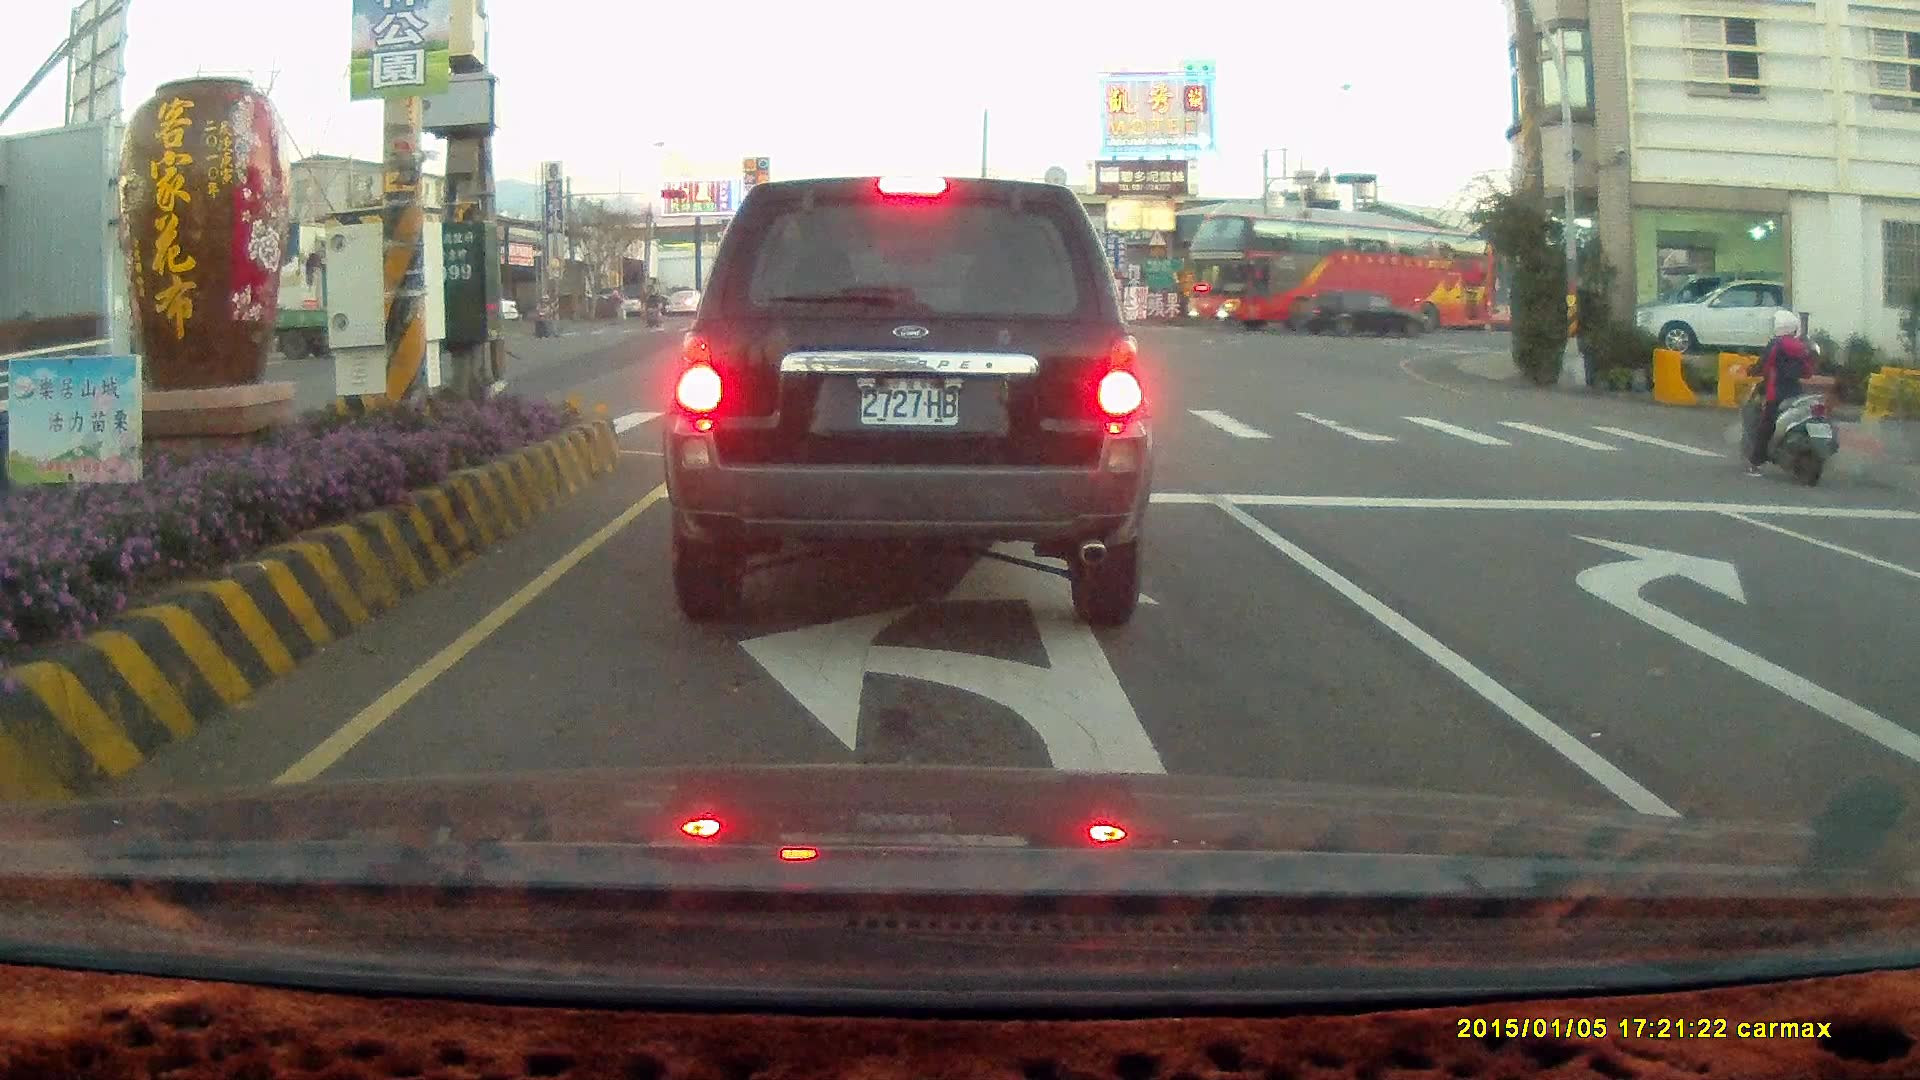rider: (1728, 307, 1838, 484), (532, 291, 560, 338), (641, 289, 662, 326)
vehicle: (659, 173, 1154, 630), (1178, 219, 1507, 335), (1623, 275, 1833, 354), (1642, 275, 1784, 356), (1896, 493, 1920, 836), (1283, 287, 1430, 341), (1883, 528, 1920, 690)
